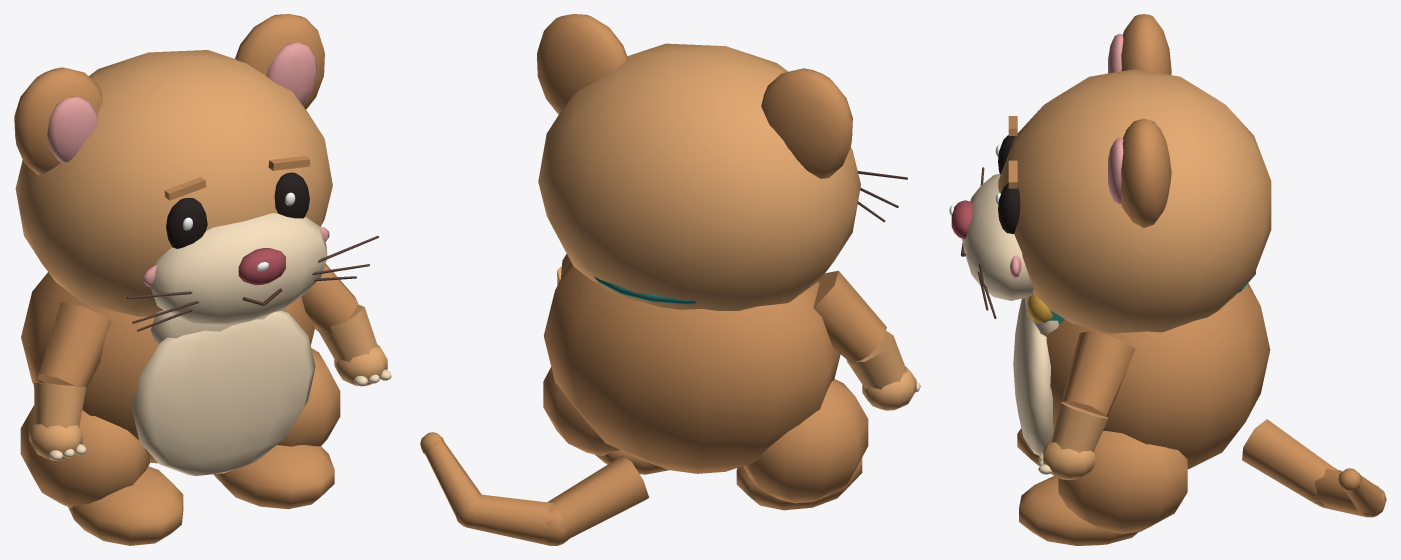
File: asset.glb
The picture shows the model from 3 angles, left to right: view 1: azimuth 30°, elevation 25°; view 2: azimuth 150°, elevation 25°; view 3: azimuth 270°, elevation 25°; orthographic projection. The views are drawn at different scales.
Visible parts, largest first — view 1: Mochi_LowPoly_Hamster, Ear_Left, Ear_Right; view 2: Mochi_LowPoly_Hamster, Ear_Left, Ear_Right; view 3: Mochi_LowPoly_Hamster, Ear_Right, Ear_Left.
Boxes of the visible parts, x1,y1,x2,y2 form: Mochi_LowPoly_Hamster: [15, 42, 391, 545]; Ear_Left: [14, 67, 102, 175]; Ear_Right: [235, 14, 324, 109]; Mochi_LowPoly_Hamster: [420, 43, 920, 545]; Ear_Left: [761, 68, 852, 178]; Ear_Right: [537, 14, 626, 114]; Mochi_LowPoly_Hamster: [949, 33, 1386, 545]; Ear_Right: [1120, 118, 1171, 227]; Ear_Left: [1121, 14, 1171, 74].
Size of the model in its own units: 1.95 by 2.4 by 2.19.
